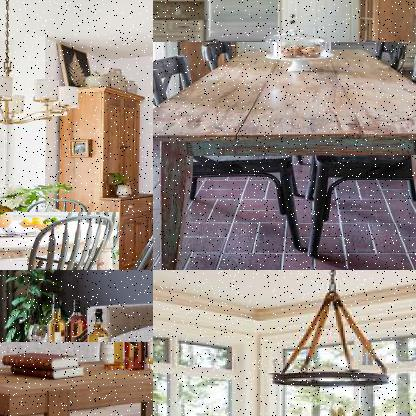table: (153, 42, 415, 269), (0, 342, 152, 415), (0, 212, 121, 269)
